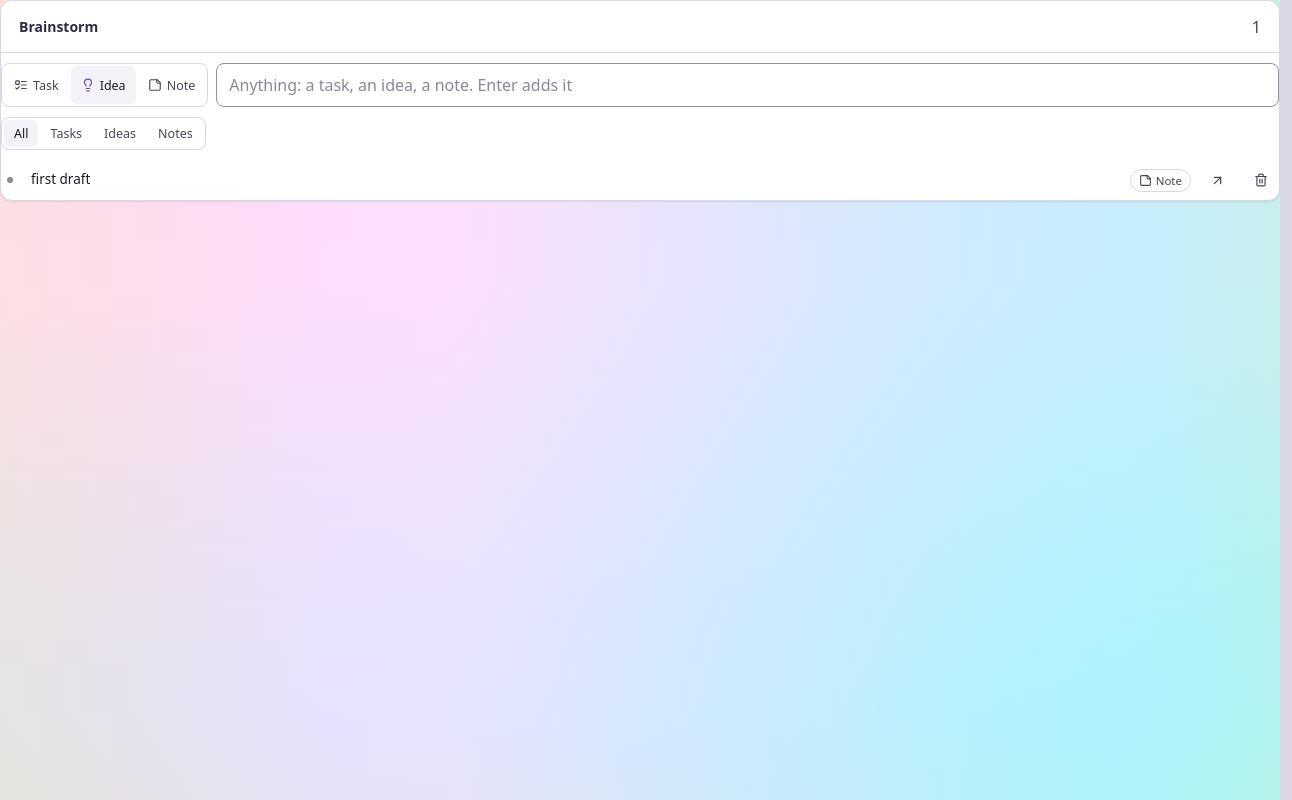
the brainstorm list › edits a line in place, and Escape cancels
Click the button "first draft" at (61, 179), box [27,164,1122,196]
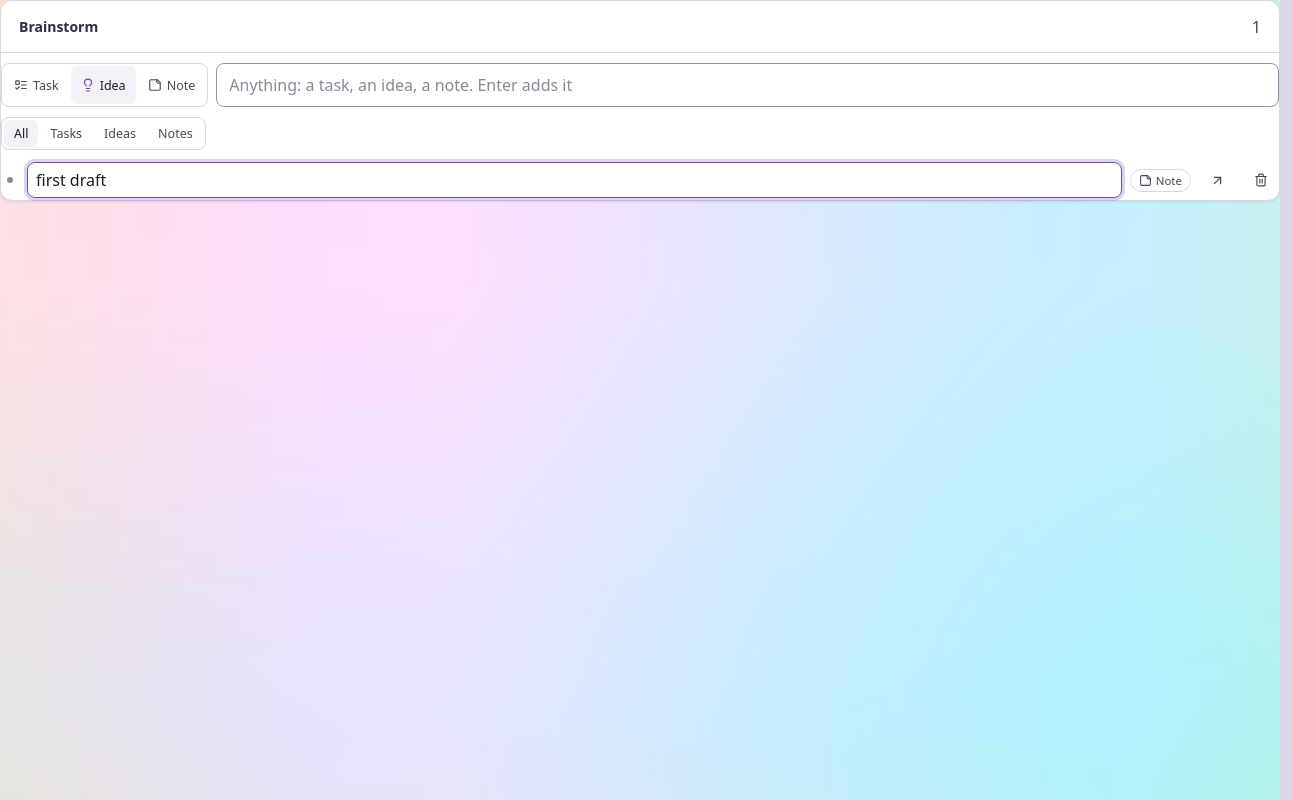
Replace the text in the field named "Edit line" with "second draft" at (574, 180), box [27,162,1122,198]
Then press Enter
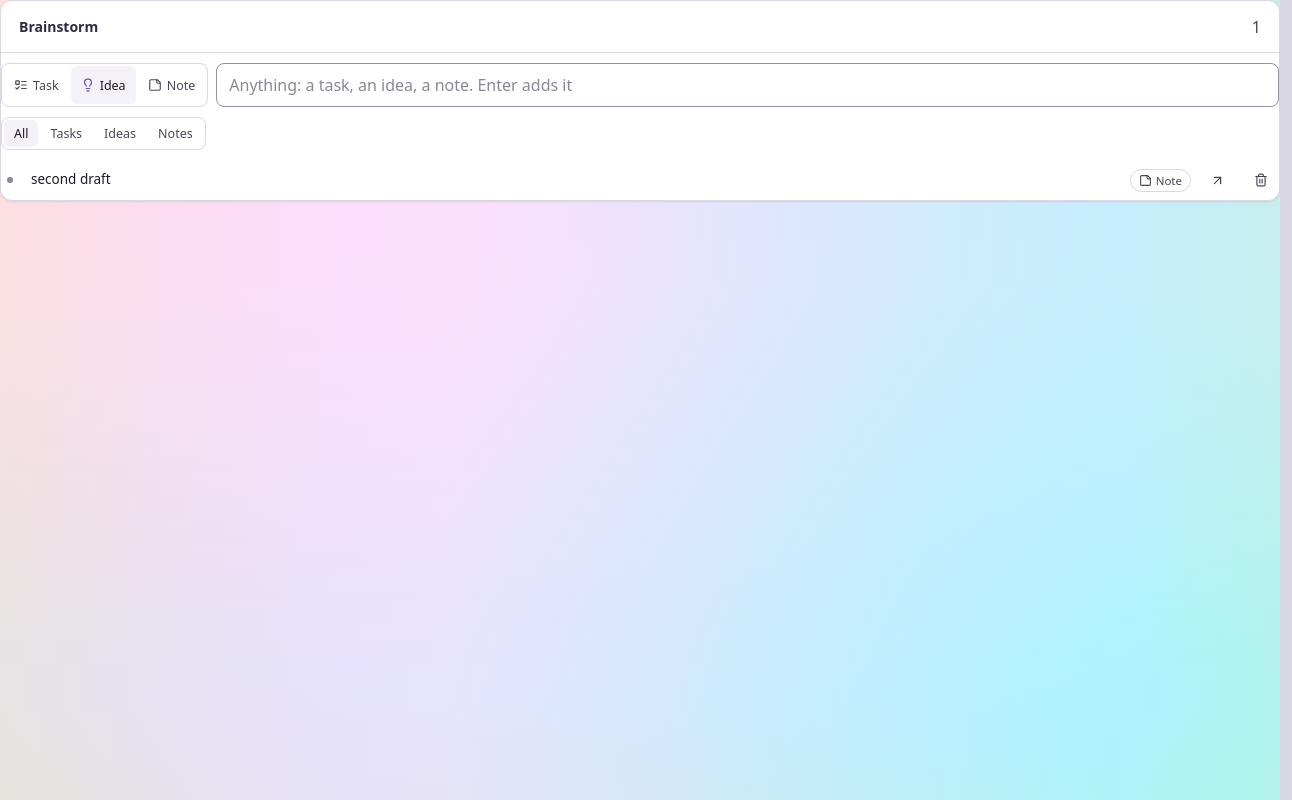
Expected: the button "second draft" is shown
Click the button "second draft" at (71, 179), box [27,164,1122,196]
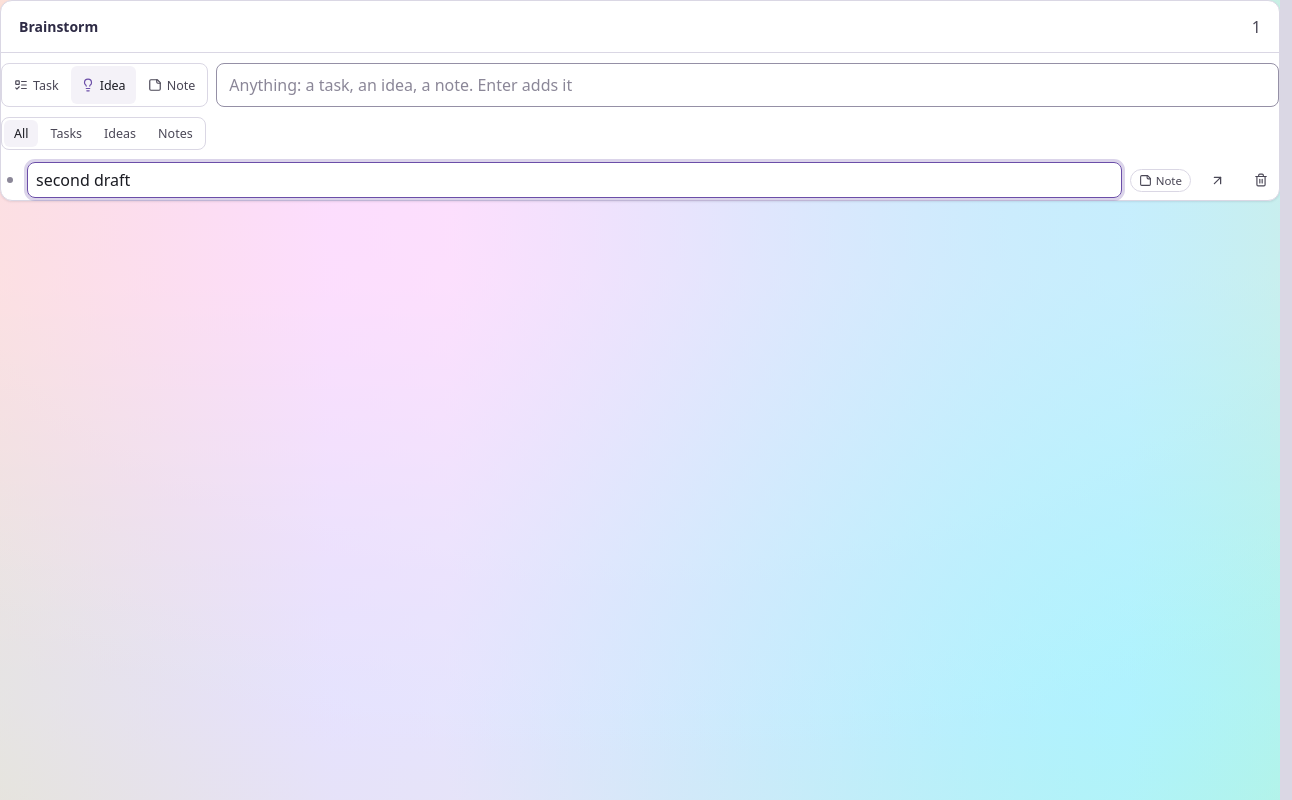
Type " nope" into the field named "Edit line" at (574, 180), box [27,162,1122,198]
Then press Escape
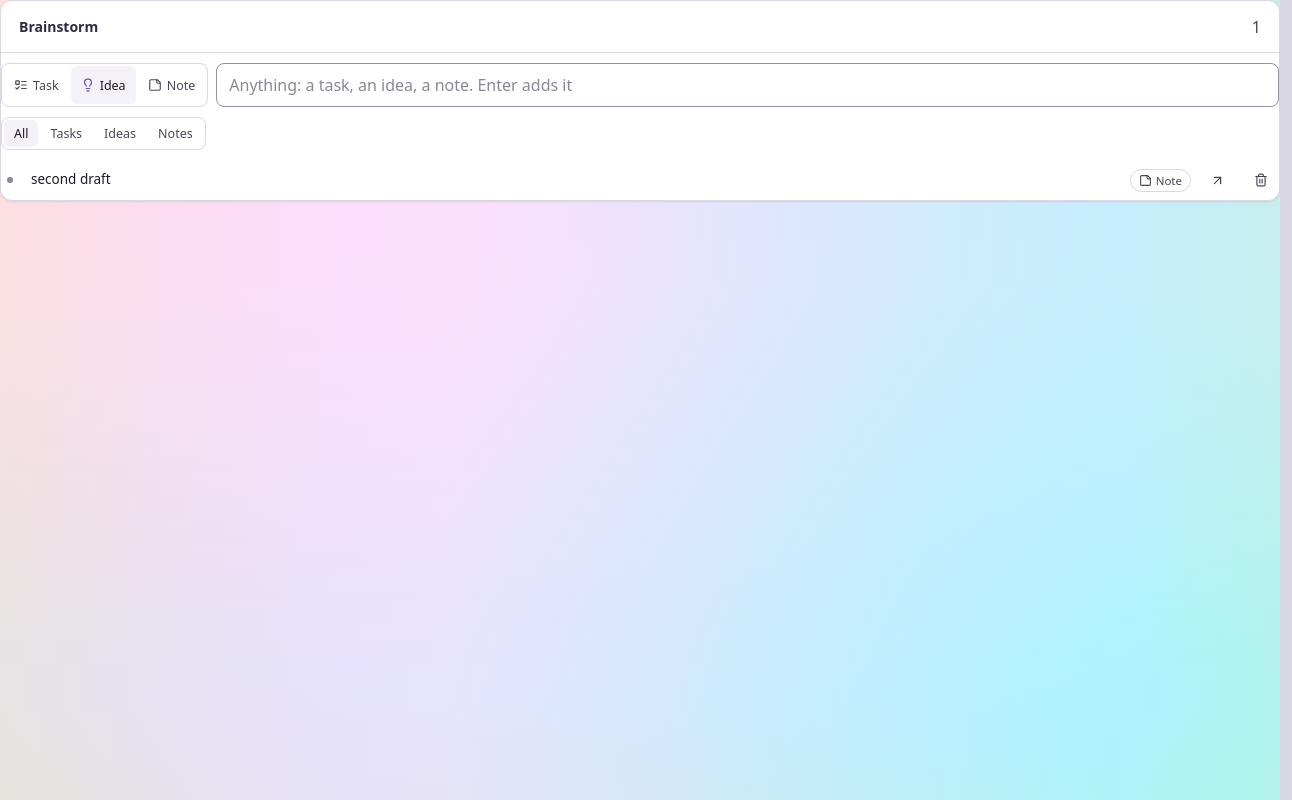
Expected: the button "second draft" is shown, [27,164,1122,196]
